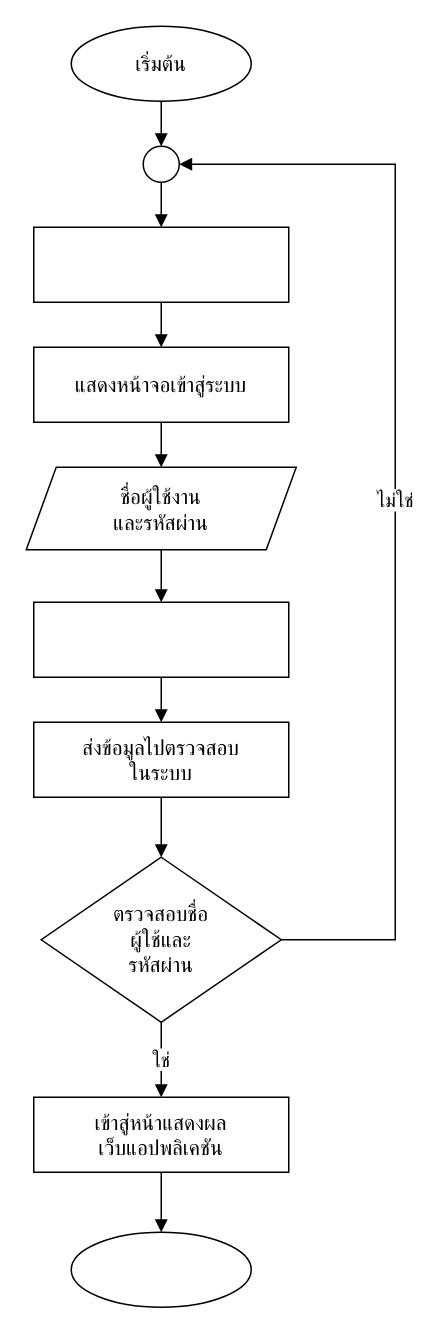
This 440x1334 diagram has some shape labels left out. Each missing label, with the centre of its shape:
กดปุ่ม "เข้าสู่ระบบ": point (160, 639)
จบการทำงาน: point (160, 1269)
เปิดหน้าเว็บไซต์ KOCH: point (160, 264)
